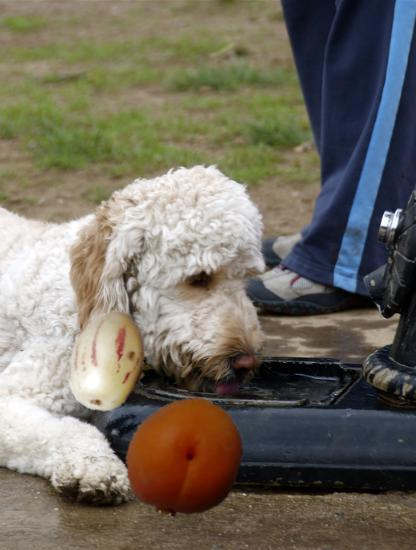Apricot: (124, 396, 245, 517)
Pepino: (57, 311, 159, 413)
